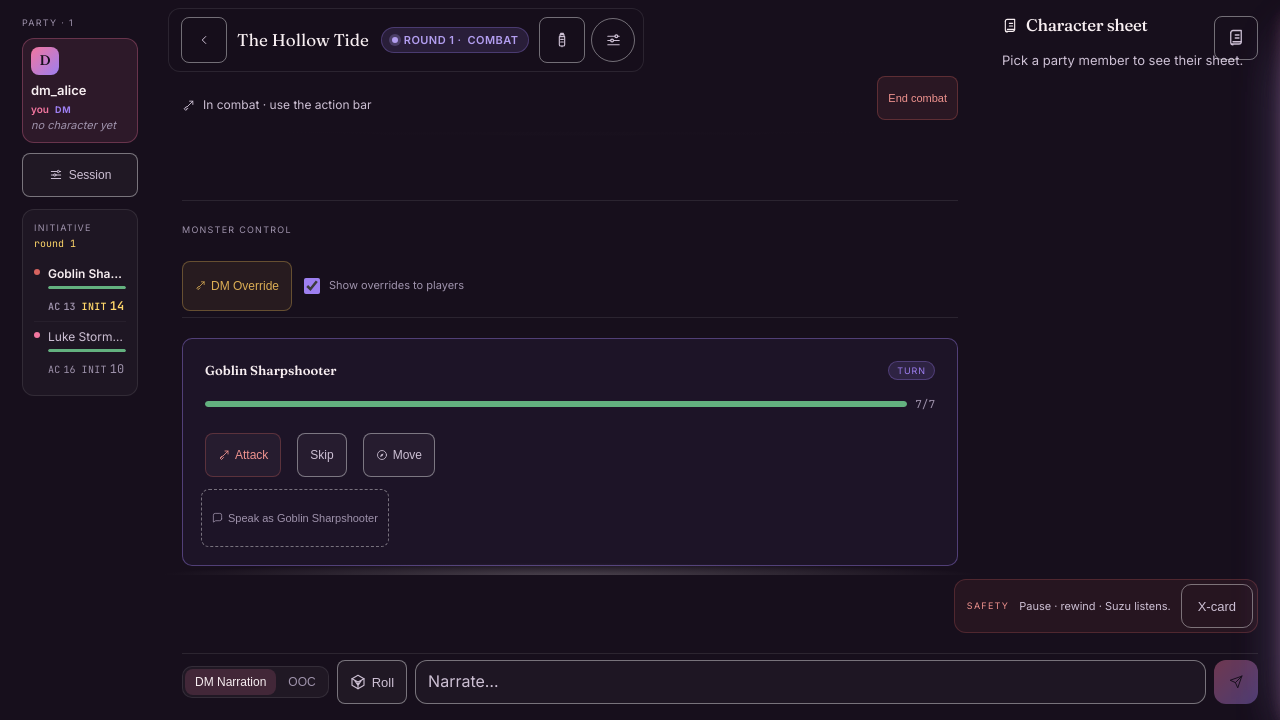
Test: S5.3 — DM monster control panel › S5.3-AC4: Attack dropdown lists living PC participants
Click the button with aria-label "Attack — pick target": coordinates (243, 454) [205,432,281,476]
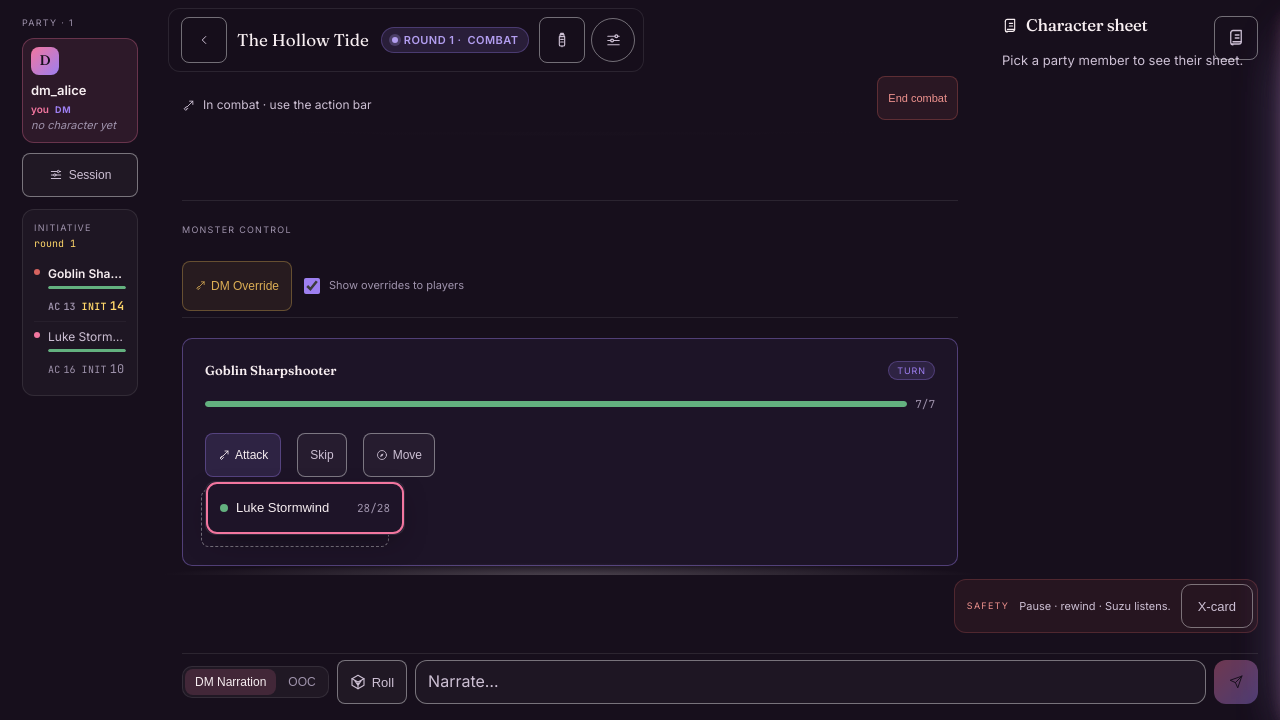
Check: the text "Luke Stormwind" below "14" is shown, box [48,329,140,344]
Check: the menu named "pick target" is shown, box [205,480,405,534]
